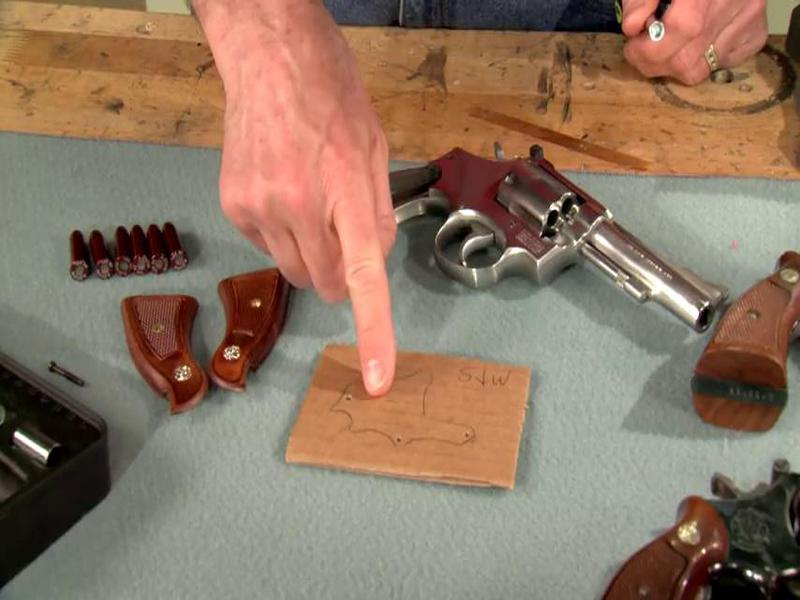Revolver: (280, 109, 720, 374)
